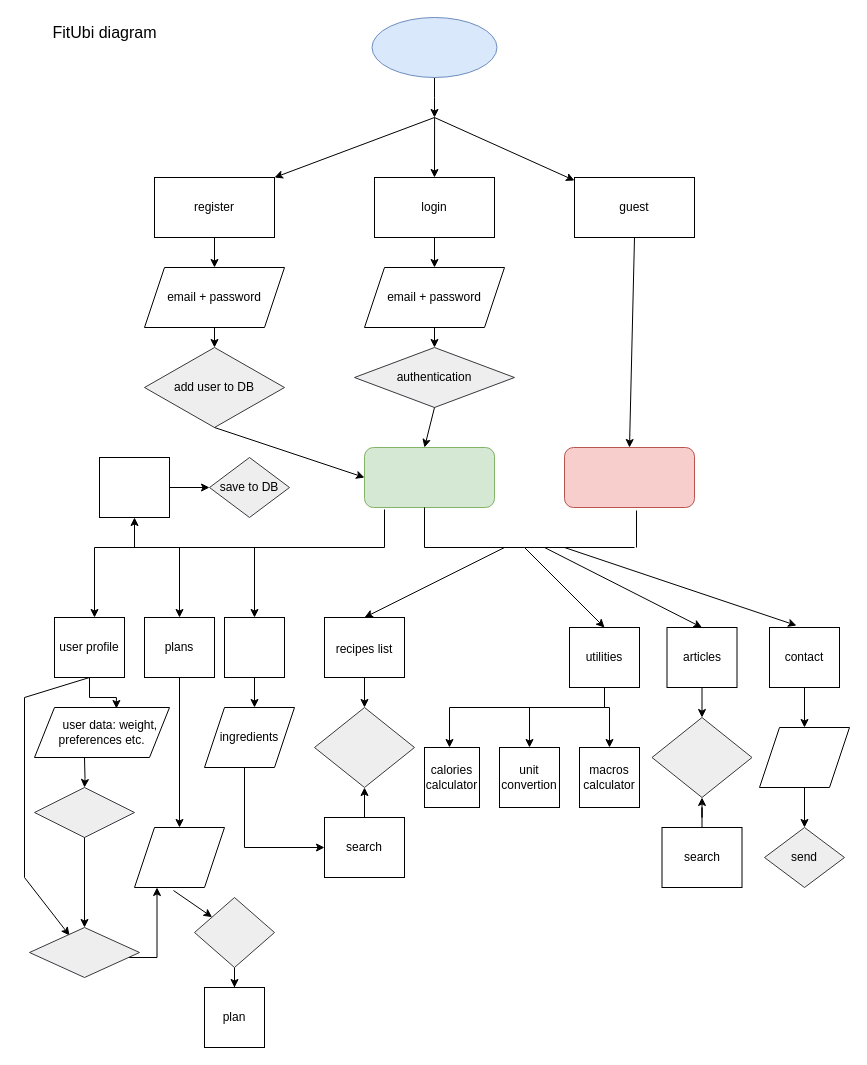
The diagram is 867 pixels wide and 1065 high, and some of its shapes have lost their labels. The shapes that lost their labels are listed below. From the top down, each one's centre as x and y in pixels, then its label:
At pixel 434 47: "Start".
At pixel 134 487: "Add recipe".
At pixel 429 477: "main page with full functionality".
At pixel 629 477: "main page with basic functionality".
At pixel 254 647: "your fridge".
At pixel 364 747: "recipes from DB".
At pixel 701 757: "articles from DB".
At pixel 804 757: "message".
At pixel 84 812: "update user".
At pixel 179 857: "create plan".
At pixel 84 952: "analyze data".
At pixel 234 932: "save plan".
